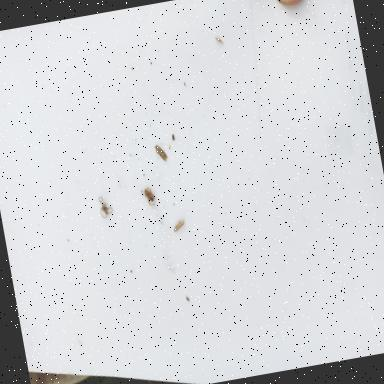pbw: (154, 144, 168, 163), (172, 219, 186, 232)
